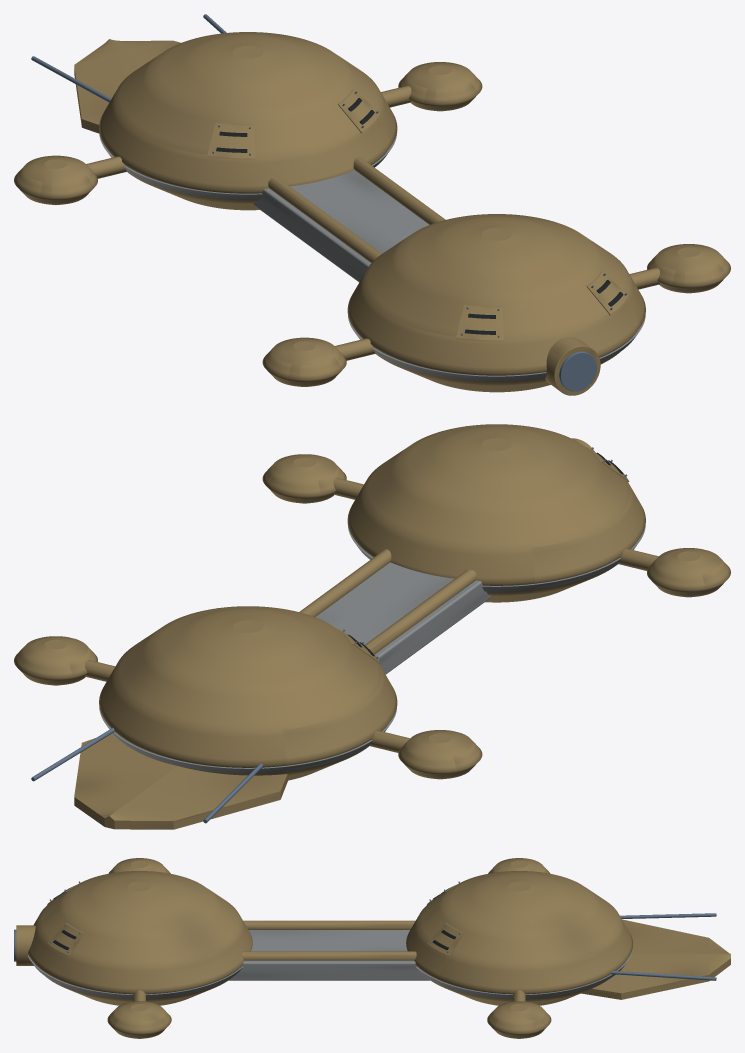
The picture shows the model from 3 angles, top to bottom: view 1: azimuth 30°, elevation 25°; view 2: azimuth 150°, elevation 25°; view 3: azimuth 270°, elevation 25°; orthographic projection. The views are drawn at different scales.
Parts seen in each view (by area): view 1: Hardcore main pressure body 0, Hardcore main pressure body 1, Hardcore silver connecting bridge, Hardcore tail plane, Hardcore lateral module 0 -1, Hardcore lateral module 1 -1, Hardcore lateral module 1 1, Hardcore lateral module 0 1, Hardcore bridge edge rail -1, Hardcore bridge edge rail 1, Hardcore fore interface bezel, Hardcore silver body trim 0 (+6 smaller); view 2: Hardcore main pressure body 1, Hardcore main pressure body 0, Hardcore tail plane, Hardcore silver connecting bridge, Hardcore lateral module 1 -1, Hardcore lateral module 0 -1, Hardcore lateral module 0 1, Hardcore lateral module 1 1, Hardcore bridge edge rail -1, Hardcore silver body trim 1, Hardcore bridge edge rail 1, Hardcore silver body trim 0; view 3: Hardcore main pressure body 1, Hardcore main pressure body 0, Hardcore silver connecting bridge, Hardcore tail plane, Hardcore lateral module 1 1, Hardcore lateral module 0 1, Hardcore bridge edge rail 1, Hardcore bridge edge rail -1, Hardcore silver body trim 0, Hardcore silver body trim 1, Hardcore fore interface bezel, Hardcore lateral module 0 -1 (+5 smaller).
Part boxes in pixels (x1,y1,x2,y2): Hardcore main pressure body 0: (347,214,645,392); Hardcore main pressure body 1: (99,32,397,210); Hardcore silver connecting bridge: (252,170,429,282); Hardcore tail plane: (74,39,180,133); Hardcore lateral module 0 -1: (262,337,346,386); Hardcore lateral module 1 -1: (14,155,97,204); Hardcore lateral module 1 1: (398,62,482,111); Hardcore lateral module 0 1: (647,244,730,293); Hardcore bridge edge rail -1: (268,177,381,262); Hardcore bridge edge rail 1: (353,157,445,224); Hardcore fore interface bezel: (545,337,600,395); Hardcore silver body trim 0: (347,313,645,381); Hardcore main pressure body 1: (99,606,397,780); Hardcore main pressure body 0: (347,424,645,602); Hardcore tail plane: (74,733,289,829); Hardcore silver connecting bridge: (315,562,492,674); Hardcore lateral module 1 -1: (398,730,482,779); Hardcore lateral module 0 -1: (647,548,730,597); Hardcore lateral module 0 1: (262,454,346,503); Hardcore lateral module 1 1: (14,636,97,685); Hardcore bridge edge rail -1: (365,569,476,654); Hardcore silver body trim 1: (99,705,397,773); Hardcore bridge edge rail 1: (299,549,391,616); Hardcore silver body trim 0: (347,524,645,591); Hardcore main pressure body 1: (406,871,632,1005); Hardcore main pressure body 0: (27,871,252,1005); Hardcore silver connecting bridge: (229,930,429,980); Hardcore tail plane: (581,919,730,999); Hardcore lateral module 1 1: (487,1001,551,1038); Hardcore lateral module 0 1: (107,1001,171,1038); Hardcore bridge edge rail 1: (242,951,416,960); Hardcore bridge edge rail -1: (243,920,415,929); Hardcore silver body trim 0: (28,955,242,998); Hardcore silver body trim 1: (416,948,632,998); Hardcore fore interface bezel: (16,925,35,965); Hardcore lateral module 0 -1: (108,858,170,873).
Bounding box in the file's own units: 2.76 × 0.8125 × 4.91.
4 materials, 2 textured.
